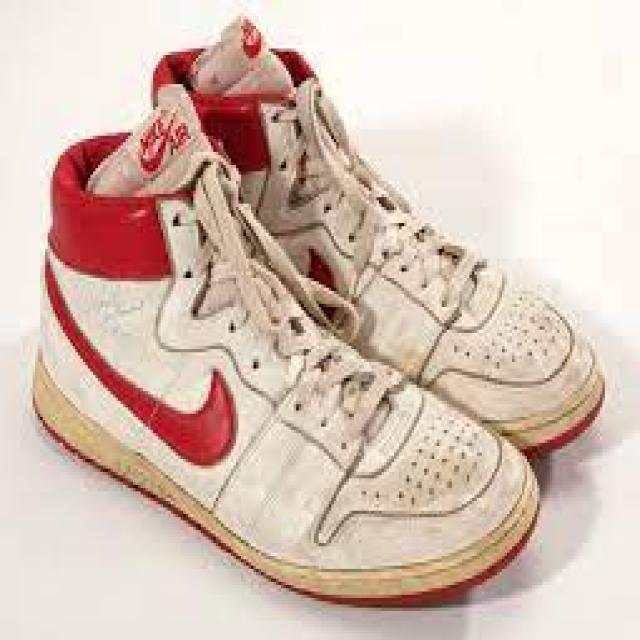shoes: (36, 26, 608, 614), (34, 111, 538, 606)
